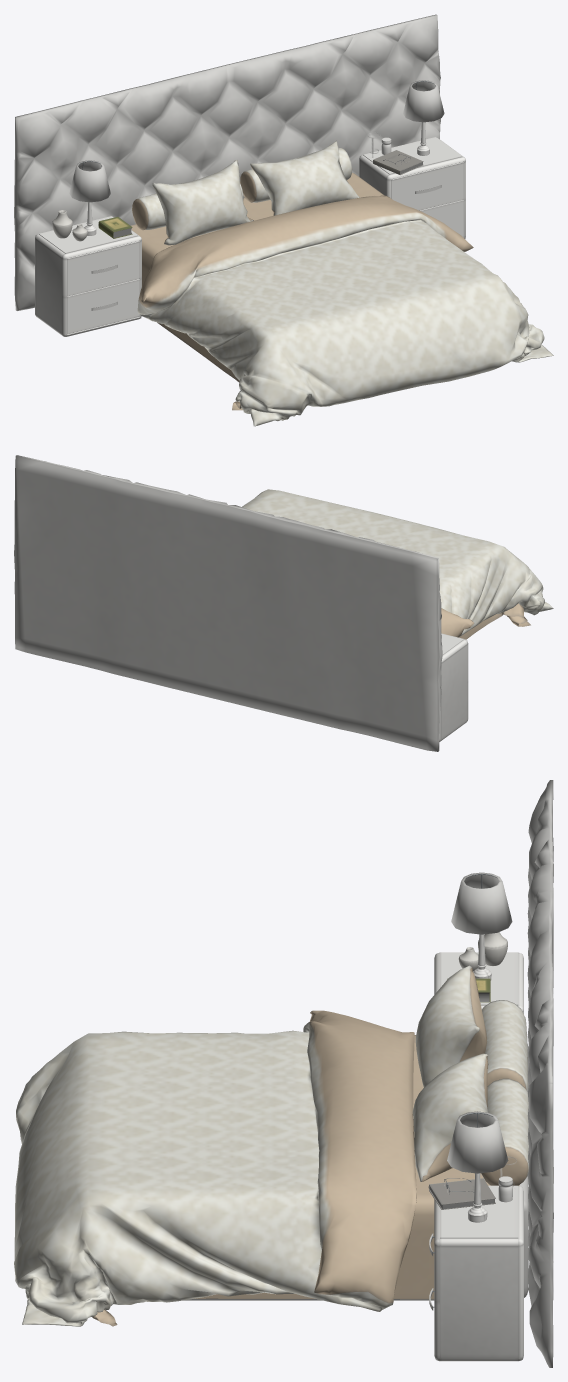
Rendered from king-size-classic-bed-8e29c8.glb.
The picture shows the model from 3 angles, top to bottom: view 1: azimuth 30°, elevation 25°; view 2: azimuth 150°, elevation 25°; view 3: azimuth 270°, elevation 25°; orthographic projection. The views are drawn at different scales.
Parts seen in each view (by area): view 1: PropMesh; view 2: PropMesh; view 3: PropMesh.
Boxes of the visible parts, box(x1,y1,x2,y2) form: PropMesh: box(14, 14, 553, 426); PropMesh: box(14, 455, 553, 751); PropMesh: box(14, 780, 553, 1367).
Size of the model in its own units: 2.6 by 1.14 by 1.94.
1 material, 1 textured.
